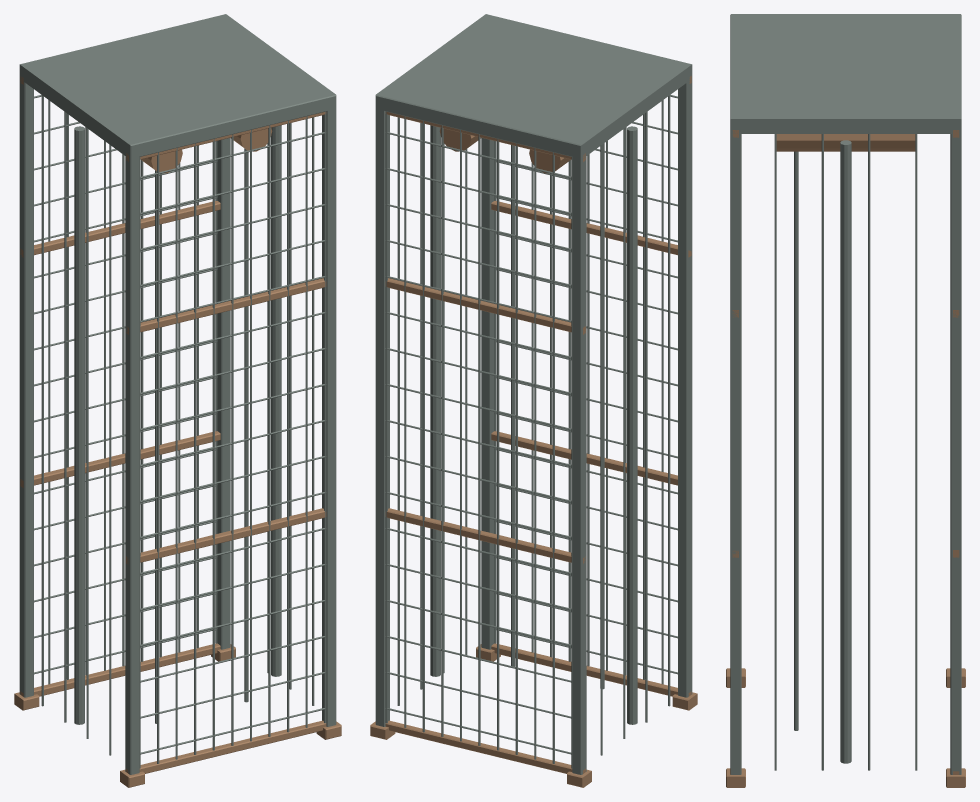
File: LiftFrame.fbx
3 views of the same model, side by side, from view 1: azimuth 30°, elevation 25°; view 2: azimuth 150°, elevation 25°; view 3: azimuth 270°, elevation 25° (orthographic). The views are drawn at different scales.
Parts seen in each view (by area): view 1: Cage__Steel, Uprights__Steel, HoistDeck__Steel, CarriageGuides__Steel, Crossbearers__Rust, Chains__Steel, Shoes__Rust, HoistDrums__Rust; view 2: Cage__Steel, Uprights__Steel, HoistDeck__Steel, CarriageGuides__Steel, Crossbearers__Rust, Chains__Steel, Shoes__Rust, HoistDrums__Rust; view 3: HoistDeck__Steel, Uprights__Steel, Cage__Steel, CarriageGuides__Steel, Chains__Steel, HoistDrums__Rust, Shoes__Rust.
Part boxes in pixels (x1=…): Cage__Steel: x1=34, y1=94, x2=326, y2=768; Uprights__Steel: x1=19, y1=14, x2=336, y2=774; HoistDeck__Steel: x1=19, y1=14, x2=336, y2=158; CarriageGuides__Steel: x1=74, y1=125, x2=281, y2=724; Crossbearers__Rust: x1=20, y1=76, x2=326, y2=773; Chains__Steel: x1=155, y1=148, x2=248, y2=723; Shoes__Rust: x1=14, y1=644, x2=341, y2=787; HoistDrums__Rust: x1=141, y1=128, x2=272, y2=173; Cage__Steel: x1=385, y1=94, x2=677, y2=768; Uprights__Steel: x1=375, y1=14, x2=692, y2=774; HoistDeck__Steel: x1=375, y1=14, x2=692, y2=158; CarriageGuides__Steel: x1=430, y1=125, x2=637, y2=724; Crossbearers__Rust: x1=385, y1=76, x2=691, y2=773; Chains__Steel: x1=511, y1=143, x2=604, y2=689; Shoes__Rust: x1=370, y1=644, x2=697, y2=787; HoistDrums__Rust: x1=439, y1=128, x2=570, y2=173; HoistDeck__Steel: x1=730, y1=14, x2=961, y2=133; Uprights__Steel: x1=730, y1=14, x2=961, y2=774; Cage__Steel: x1=774, y1=134, x2=917, y2=770; CarriageGuides__Steel: x1=840, y1=140, x2=851, y2=763; Chains__Steel: x1=794, y1=151, x2=798, y2=730; HoistDrums__Rust: x1=776, y1=134, x2=915, y2=151; Shoes__Rust: x1=726, y1=668, x2=965, y2=787.
Size of what is drawn, in the model's own units: 3.1 by 8.9 by 2.9.
